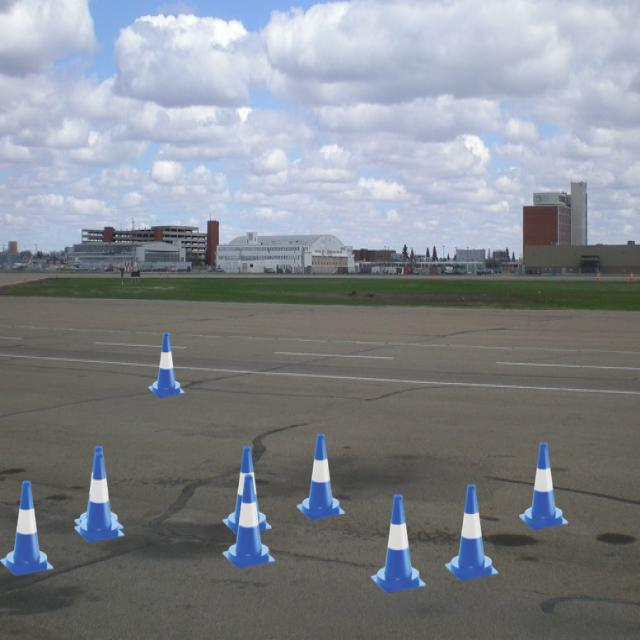blue_cone: (370, 494, 426, 593), (0, 480, 54, 576), (445, 484, 498, 581), (223, 474, 275, 568), (74, 452, 124, 542), (74, 446, 124, 535), (222, 446, 272, 535), (519, 442, 568, 530), (297, 434, 345, 520), (148, 332, 184, 398)
